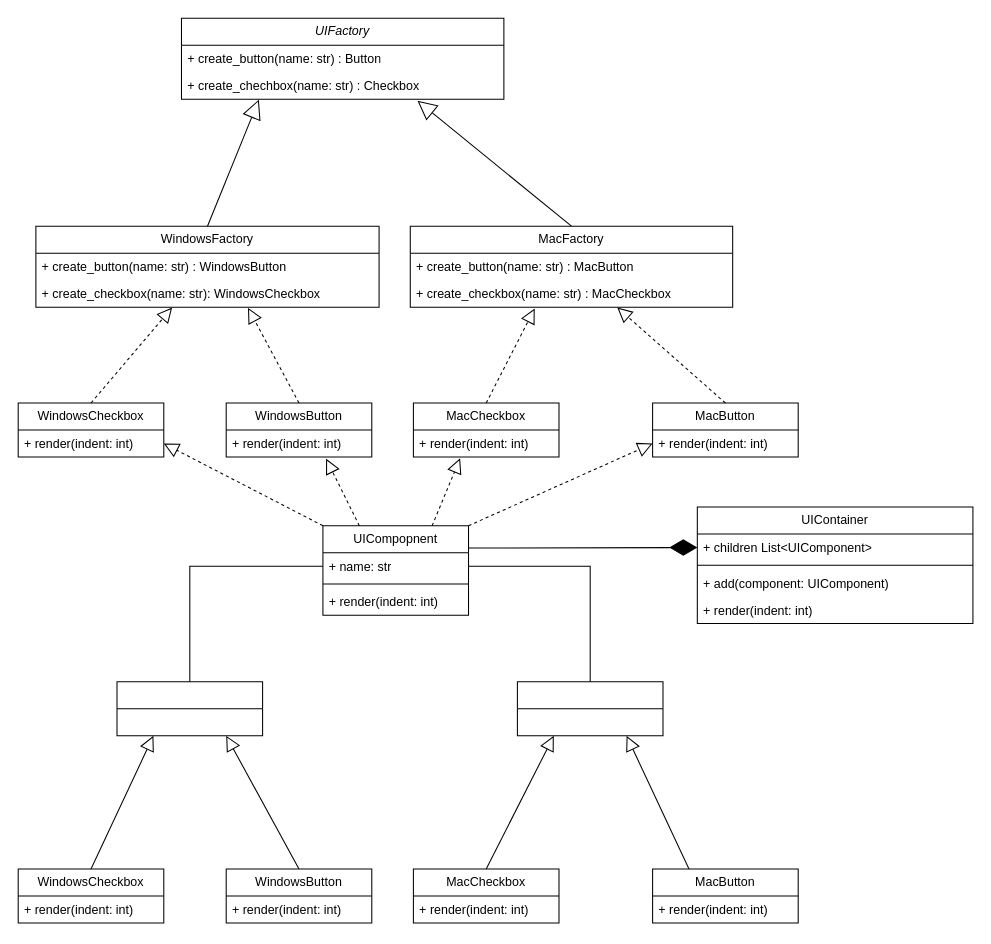
Some shapes in this 991 by 944 pixel diagram are drawn without their labels. Here are the shapes that lost their labels. From the top down, the centre of each, then its label:
the point at 189,708: Button
the point at 589,708: Checkbox
